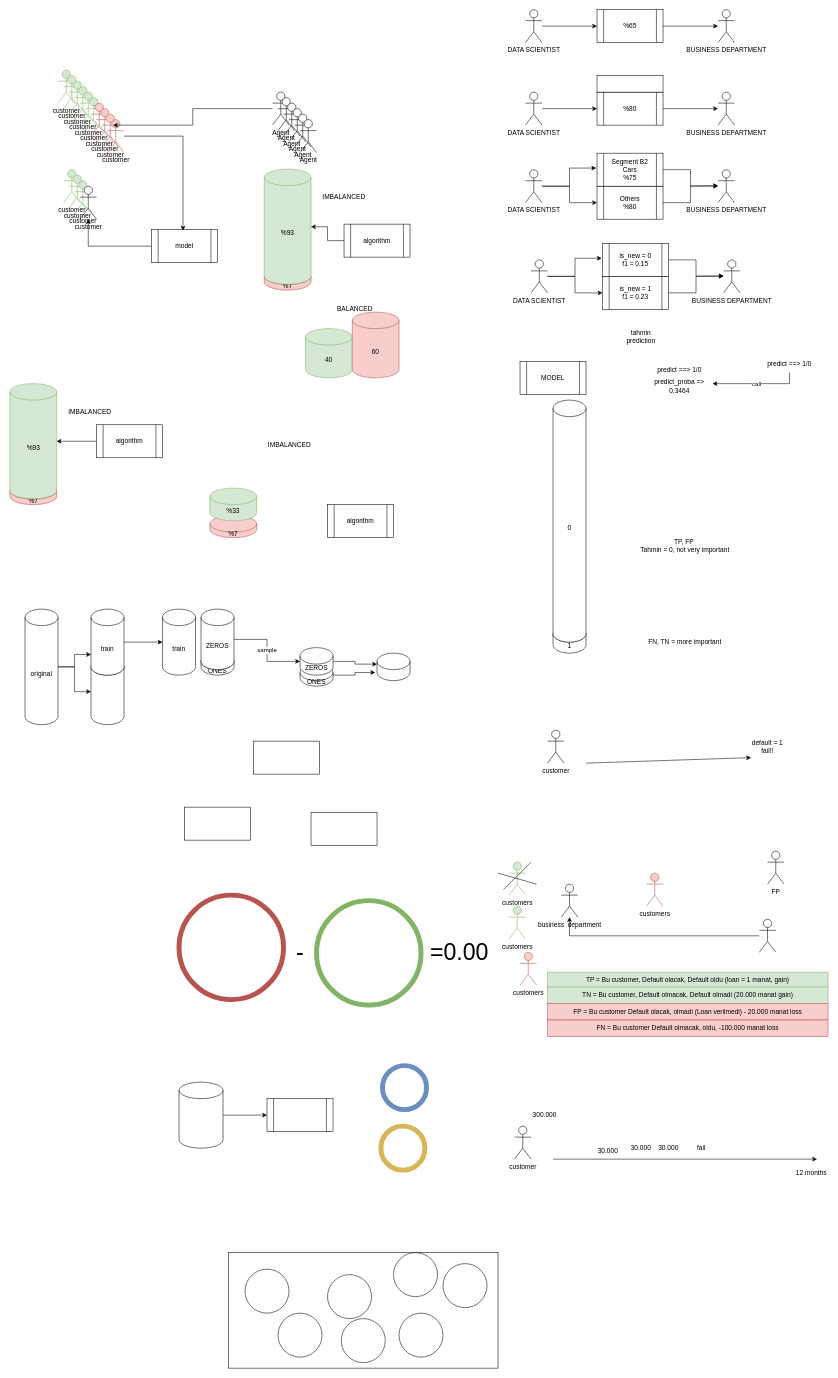
The diagram is 838 pixels wide and 1378 high, and some of its shapes have lost their labels. The shapes that lost their labels are listed below. From the top down, each one's box as (x1, y1, x2, y2) in pixels, then its label:
(596, 75, 663, 92): Segment B2 cars EXCLUDED
(376, 653, 410, 681): new train
(90, 658, 124, 725): test
(759, 919, 776, 952): data science
